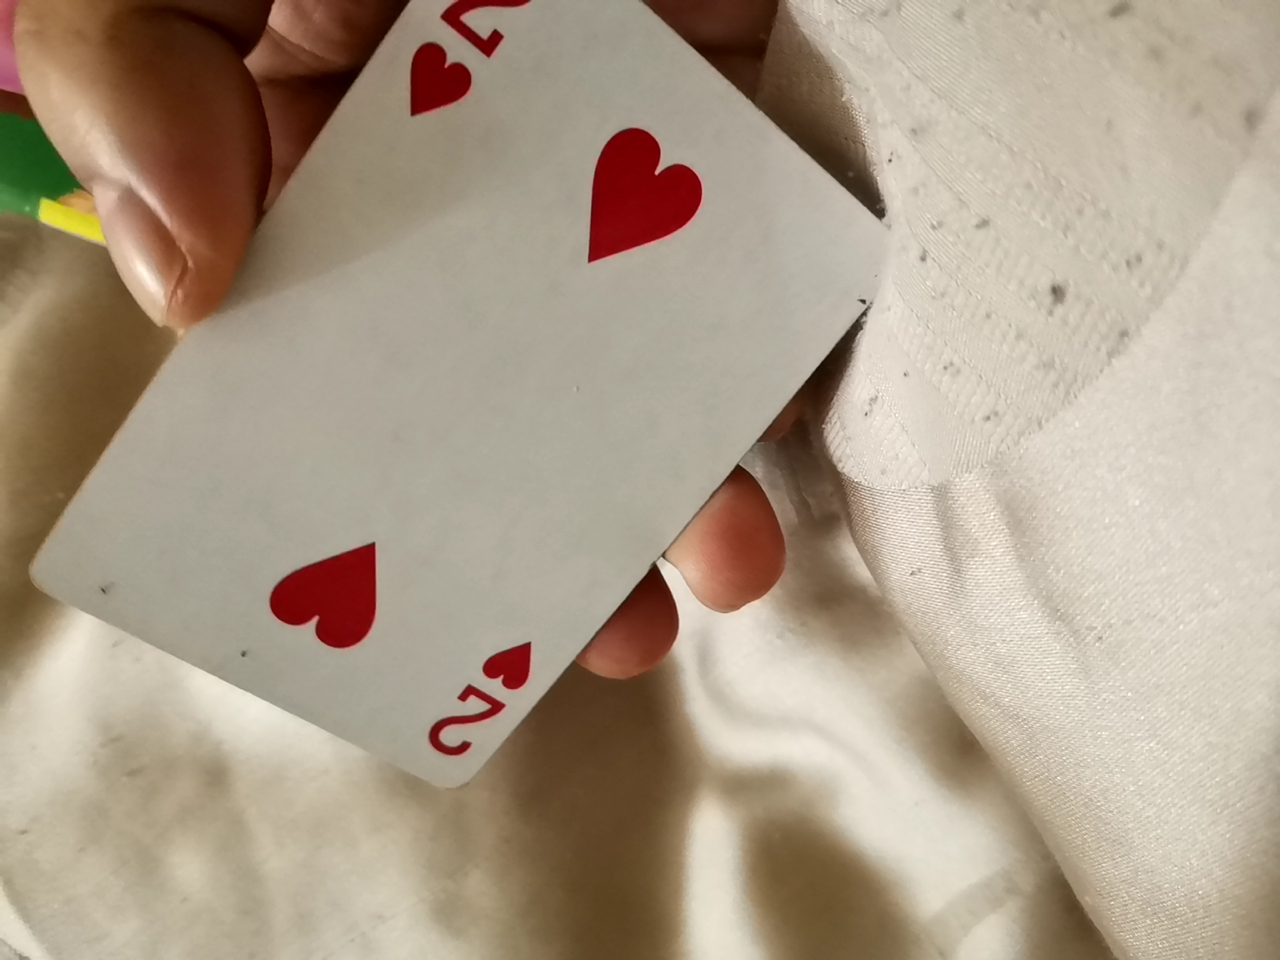hx 2: (40, 9, 919, 838)
